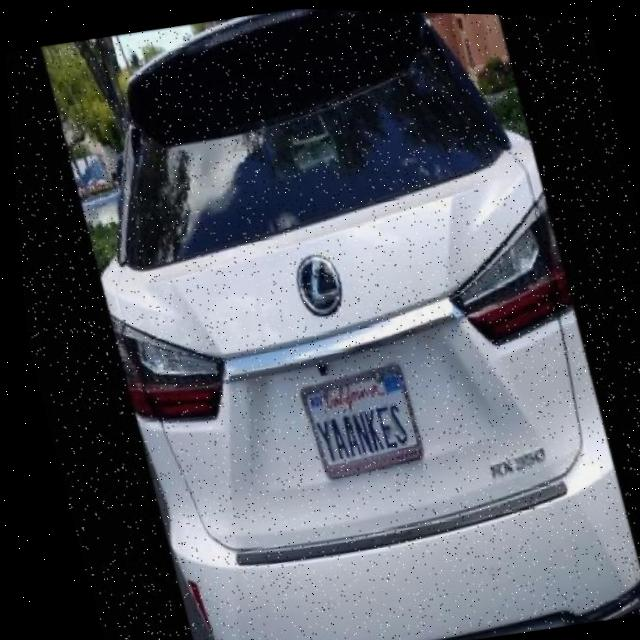LicensePlate: (287, 359, 418, 469)
